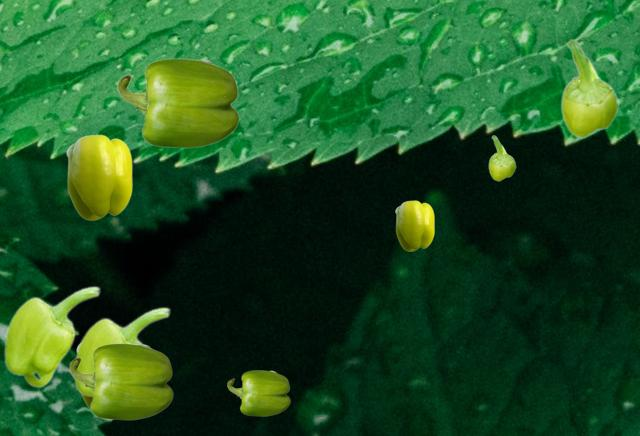bell_pepper: (117, 58, 238, 147), (3, 285, 100, 387), (73, 306, 170, 399), (69, 343, 172, 419), (560, 39, 618, 137), (66, 134, 131, 219), (227, 370, 289, 415), (395, 200, 433, 250), (488, 135, 515, 180), (76, 345, 91, 409)
